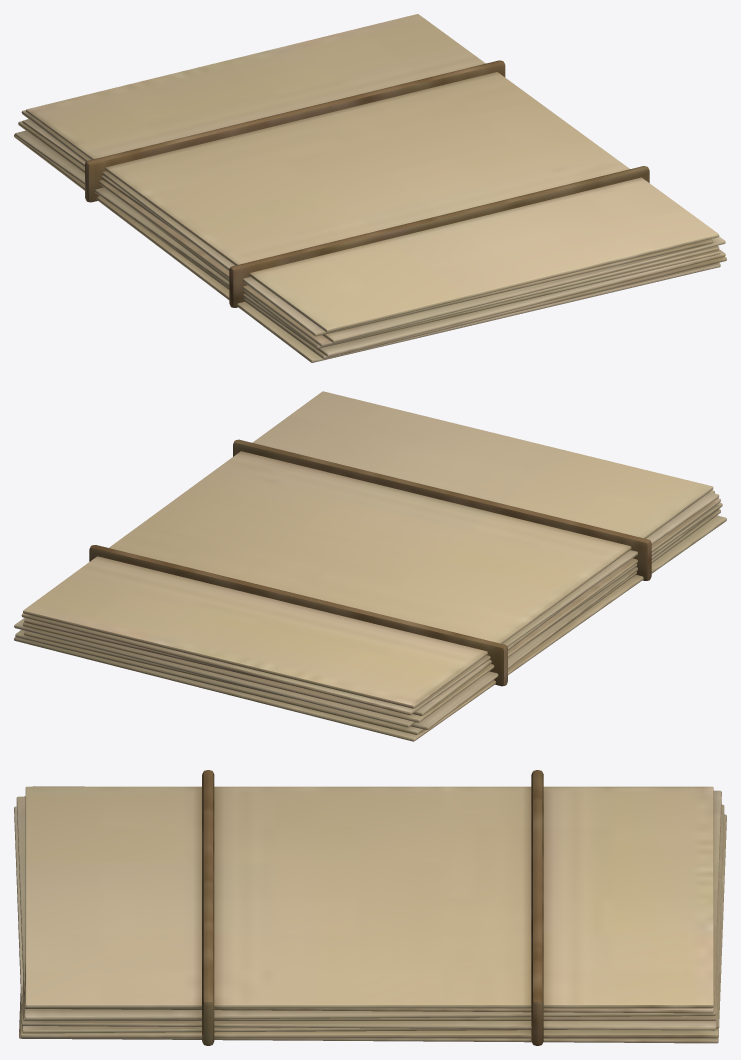
File: parchment_quire.glb
3 renders of one model, top to bottom at view 1: azimuth 30°, elevation 25°; view 2: azimuth 150°, elevation 25°; view 3: azimuth 270°, elevation 25°, orthographic. The views are drawn at different scales.
Parts seen in each view (by area): view 1: parchment_quire; view 2: parchment_quire; view 3: parchment_quire.
Boxes of the visible parts, x1,y1,x2,y2 form: parchment_quire: (14, 14, 726, 362); parchment_quire: (14, 391, 726, 741); parchment_quire: (14, 770, 726, 1045).
Bounding box in the file's own units: 0.134 × 0.0159 × 0.1732.
1 material, 1 textured.
